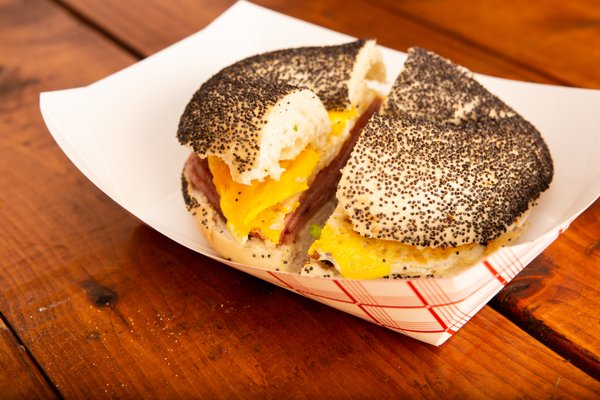soup: (177, 37, 550, 280), (305, 44, 555, 279), (177, 38, 397, 270)
